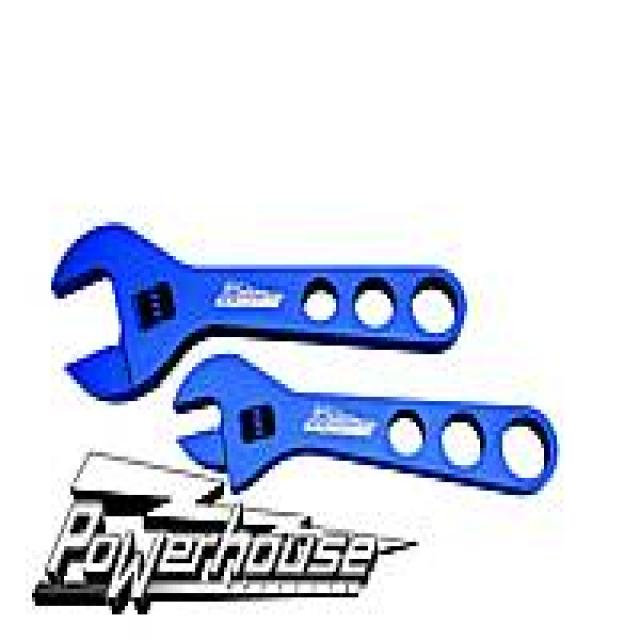wrench: (31, 204, 455, 384), (164, 354, 546, 497)
